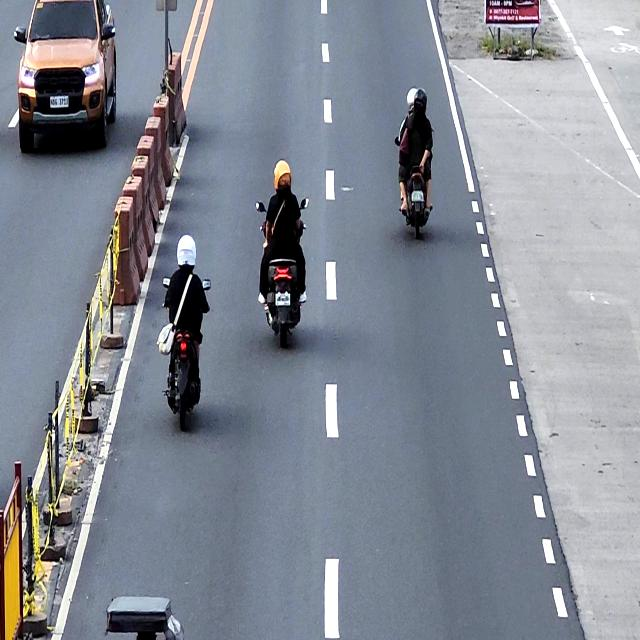Car: (12, 0, 118, 154)
License-Plate: (275, 292, 291, 307), (50, 96, 69, 108), (411, 190, 424, 202)
Motorcycle: (254, 198, 309, 349), (161, 276, 211, 434), (395, 123, 434, 239)
